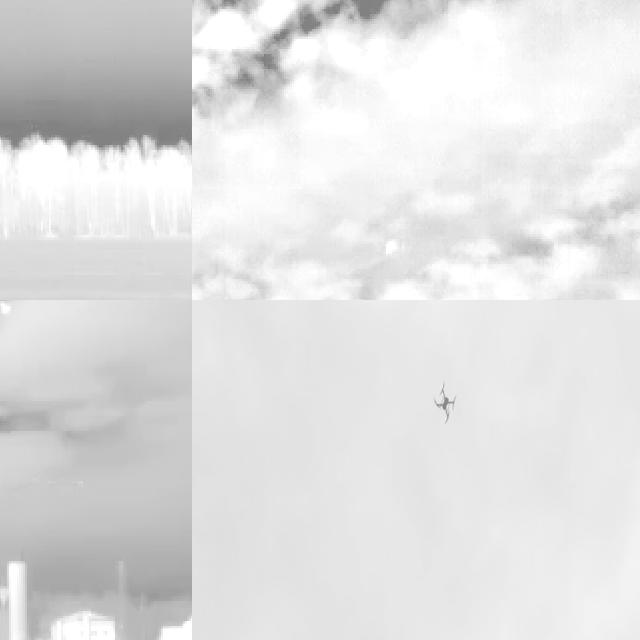0: (364, 234, 404, 266), (65, 471, 89, 499), (0, 300, 17, 326)
drone: (432, 374, 458, 420)
